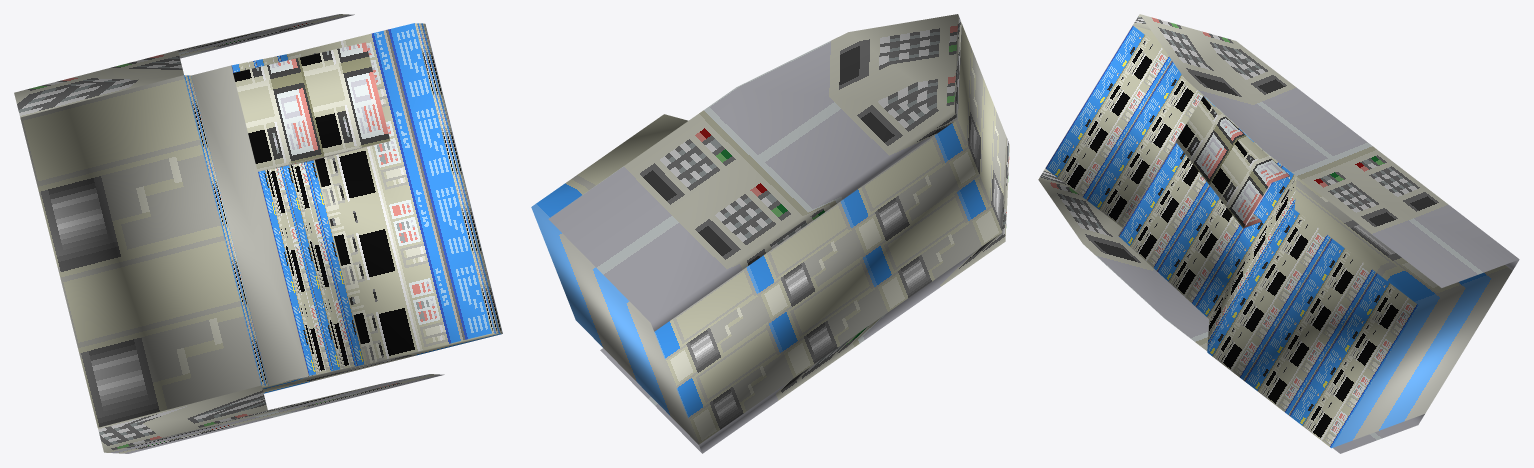
Rendered from 3400IMIG19_08.gltf.
3 views of the same model, side by side, from view 1: azimuth 30°, elevation 25°; view 2: azimuth 150°, elevation 25°; view 3: azimuth 270°, elevation 25° (orthographic). The views are drawn at different scales.
Visible parts, largest first — view 1: 3400IMIG19_08; view 2: 3400IMIG19_08; view 3: 3400IMIG19_08.
Boxes of the visible parts, x1=… form: 3400IMIG19_08: x1=14, y1=14, x2=502, y2=453; 3400IMIG19_08: x1=531, y1=14, x2=1009, y2=453; 3400IMIG19_08: x1=1038, y1=14, x2=1519, y2=453.
Bounding box in the file's own units: 1.69 × 1.78 × 2.18.
5 materials, 5 textured.
